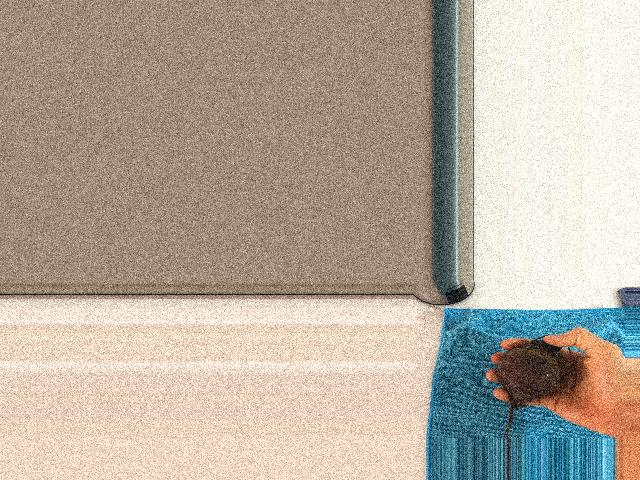beet: (496, 335, 575, 439)
